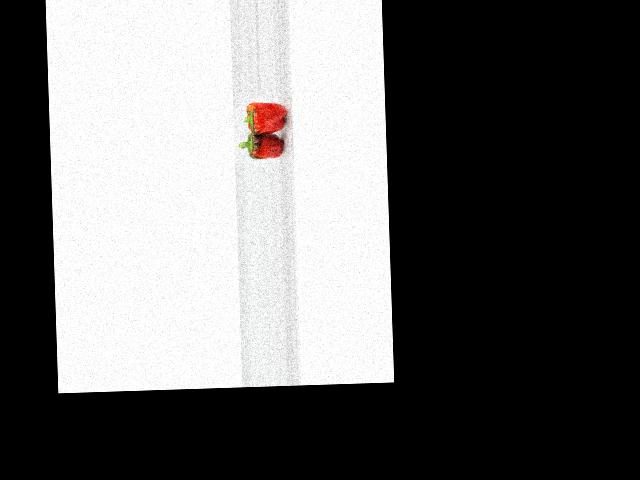bell_pepper: (240, 96, 287, 134)
